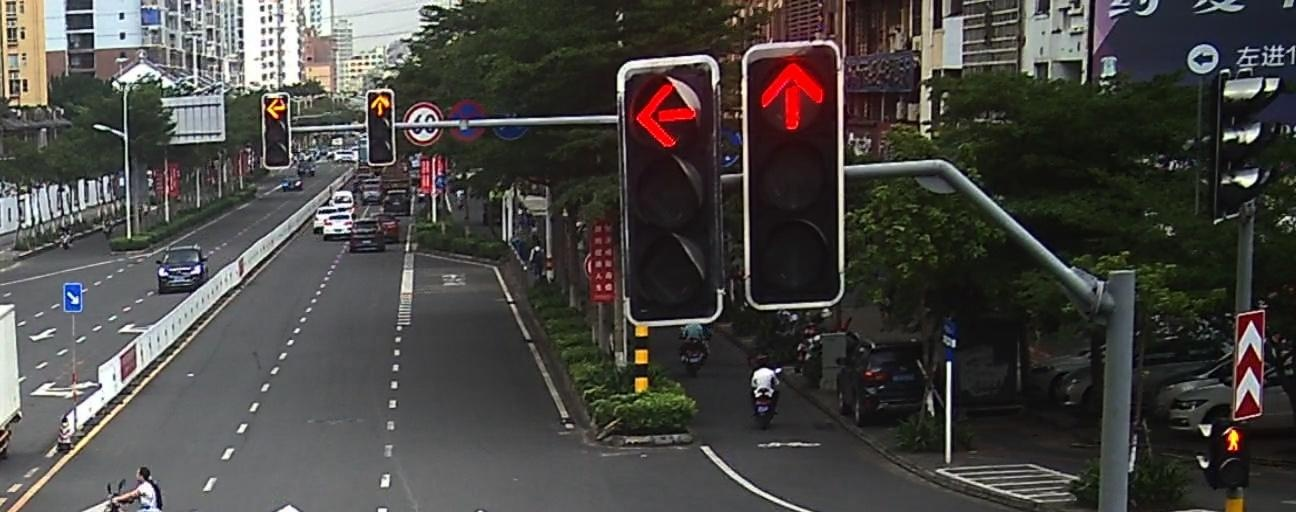redleft: (630, 81, 700, 151), (265, 97, 287, 121)
redpeople: (1220, 425, 1244, 454)
redstraight: (755, 59, 830, 134), (369, 95, 394, 118)
